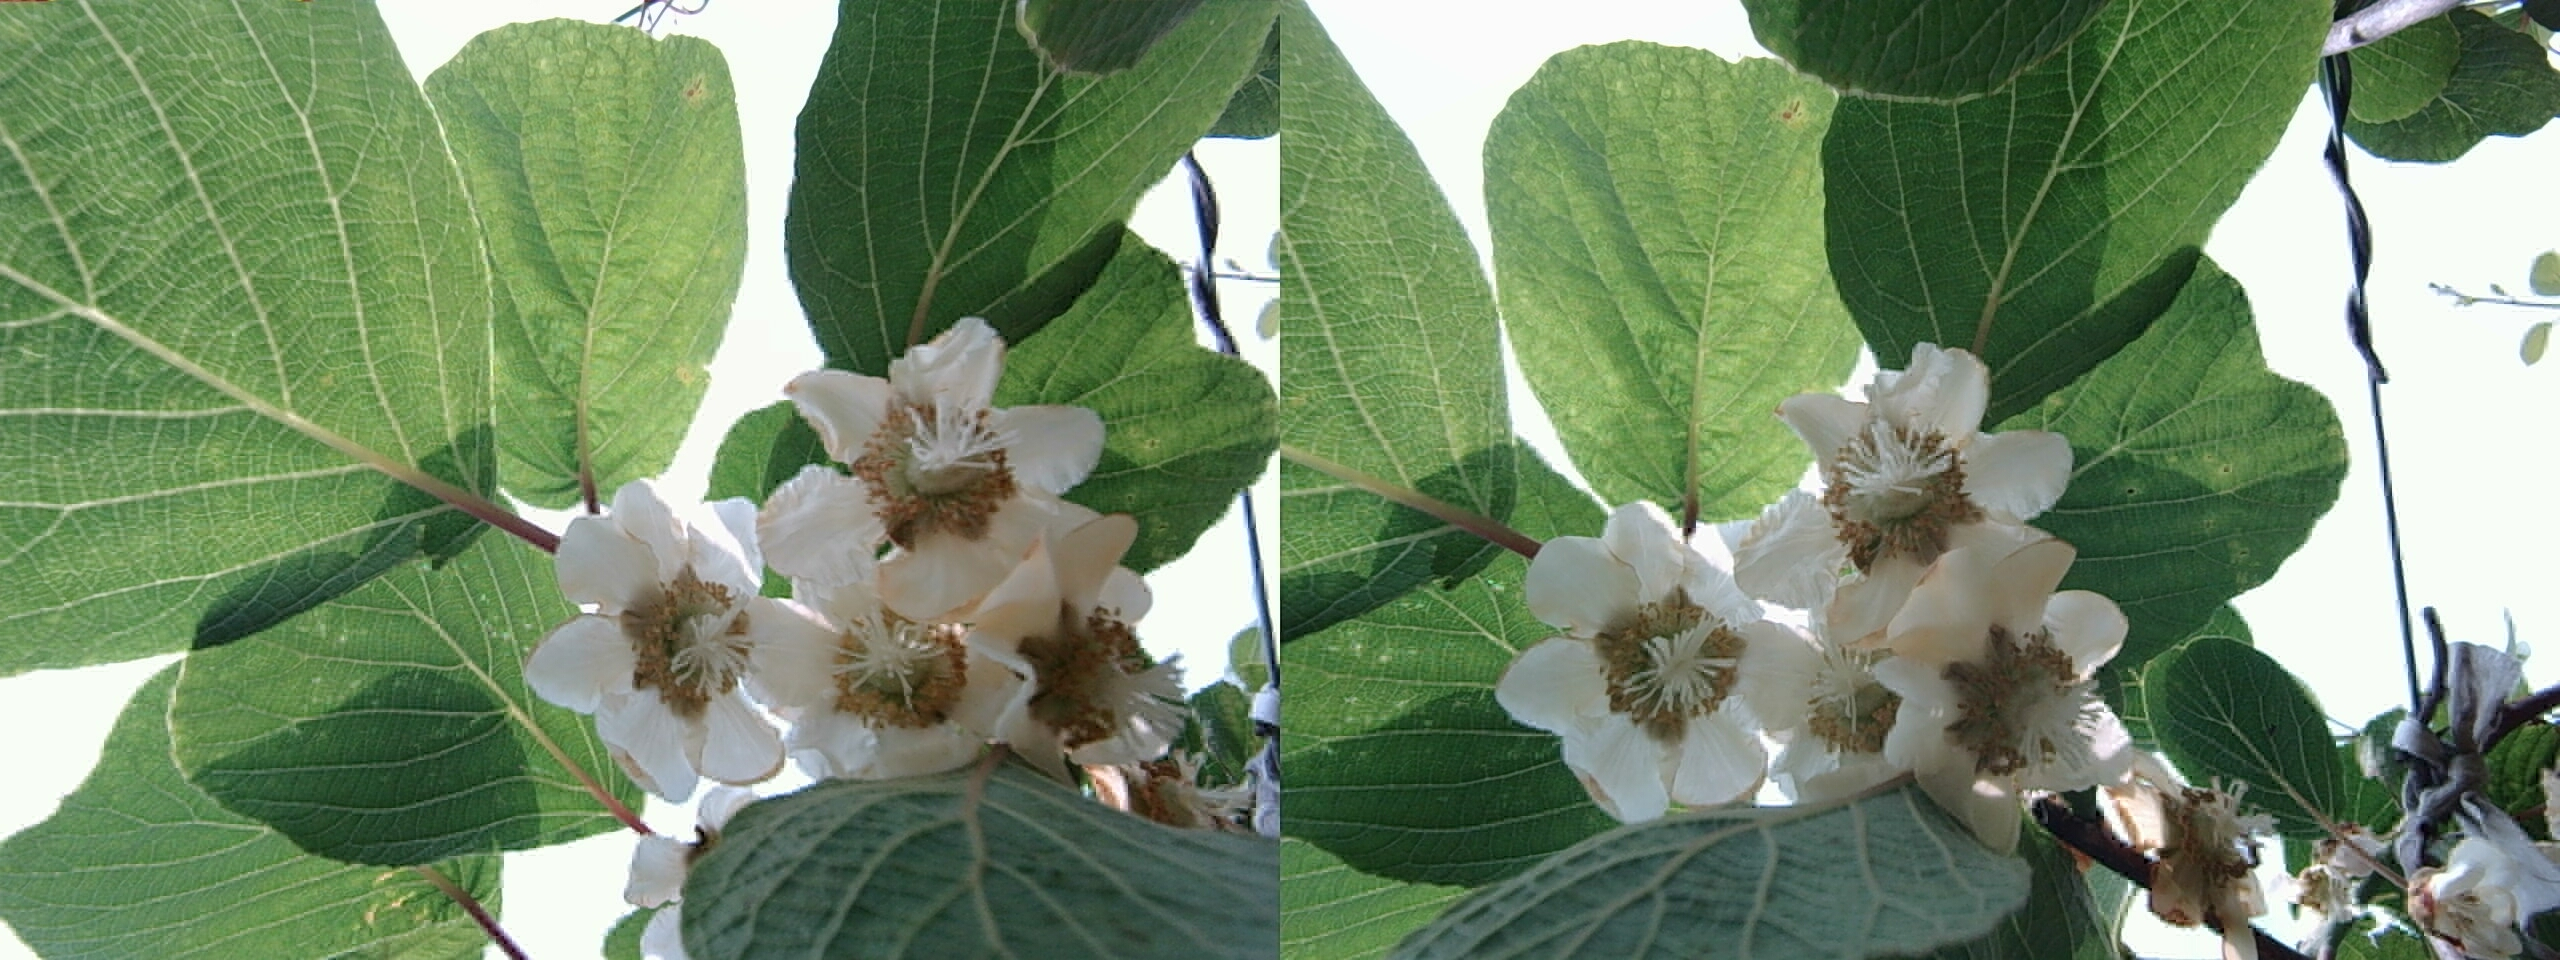flower: (1504, 501, 1801, 813), (527, 483, 811, 803), (784, 322, 1091, 606), (1763, 336, 2056, 617), (1851, 563, 2142, 826), (758, 563, 1027, 780), (968, 540, 1195, 772), (1727, 612, 1910, 790)
